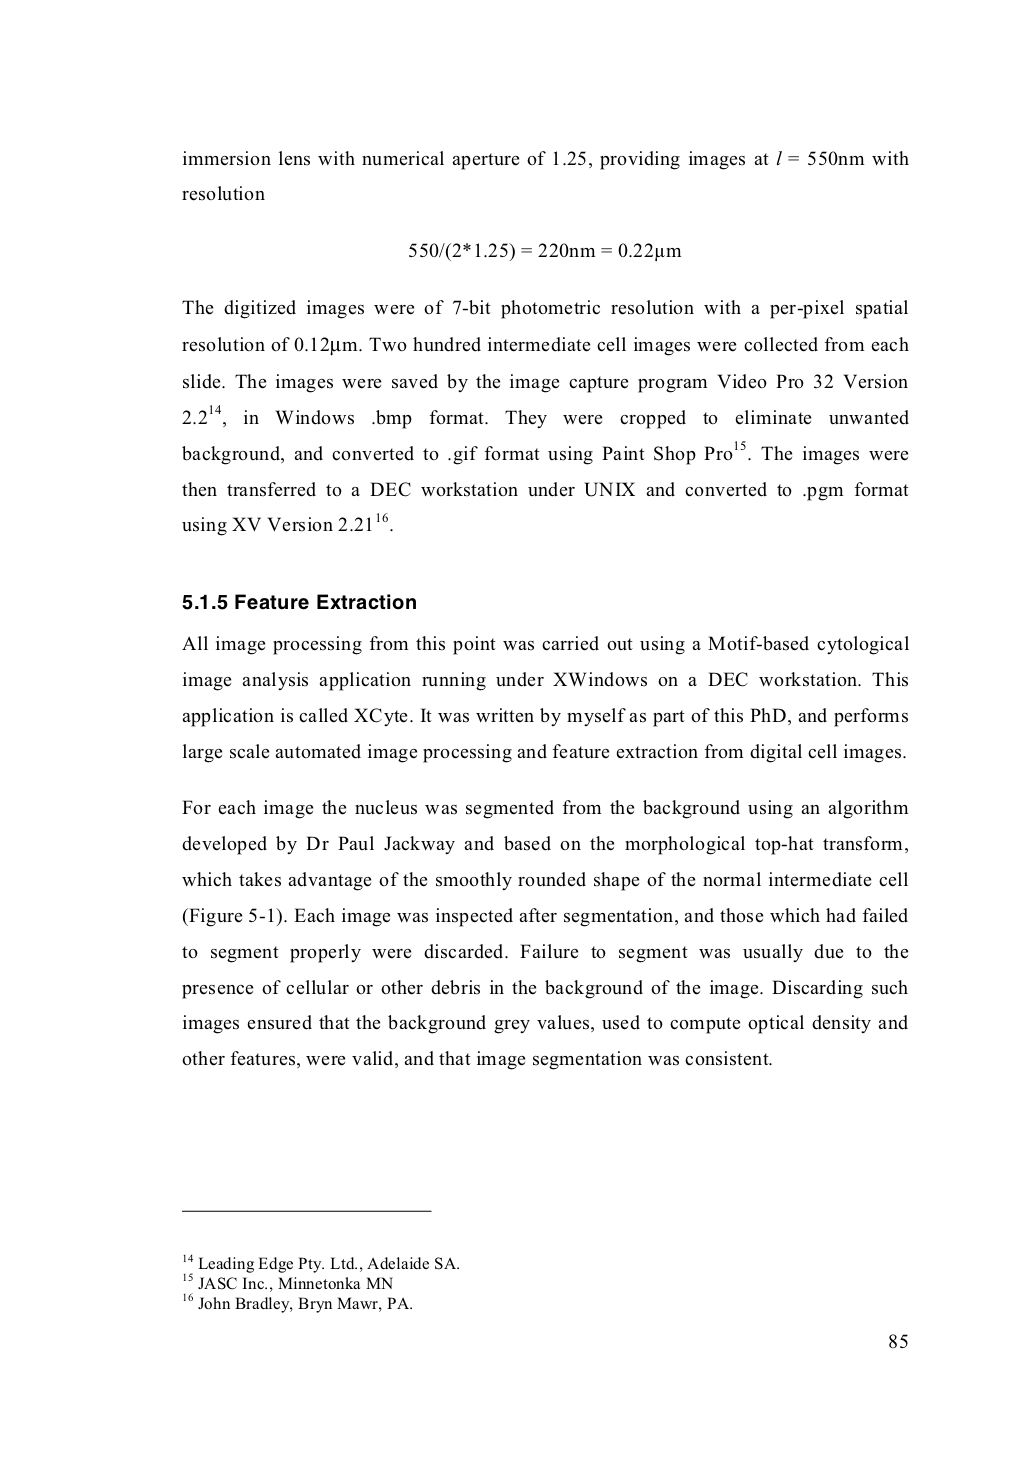figure: (182, 1208, 431, 1212)
formula: (409, 242, 681, 262)
